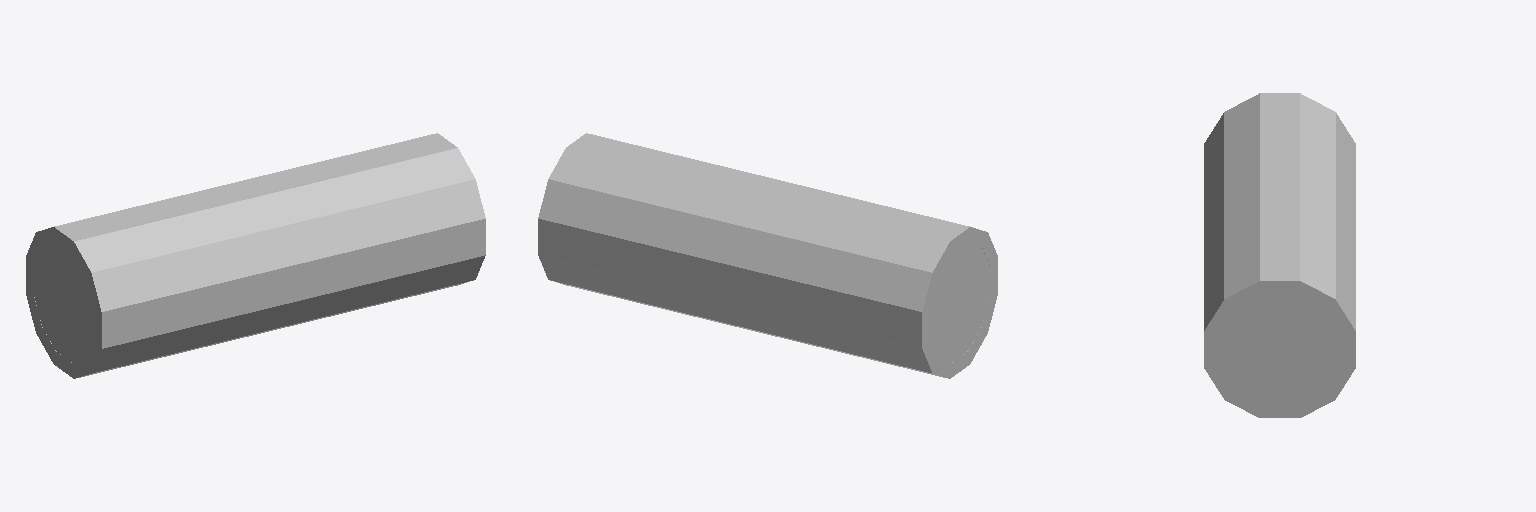
File: magnetic_separator_drum_mirrored.obj
3 views of the same model, side by side, from view 1: azimuth 30°, elevation 25°; view 2: azimuth 150°, elevation 25°; view 3: azimuth 270°, elevation 25° (orthographic).
Parts seen in each view (by area): view 1: tube, circle; view 2: tube, circle; view 3: tube, circle.
Boxes of the visible parts, box(x1,y1,x2,y2) form: tube: box(26, 133, 485, 378); circle: box(34, 243, 92, 362); tube: box(538, 133, 997, 378); circle: box(931, 243, 989, 362); tube: box(1204, 93, 1355, 417); circle: box(1214, 290, 1345, 409).
Size of the model in its own units: 3.37 by 1.15 by 1.15.